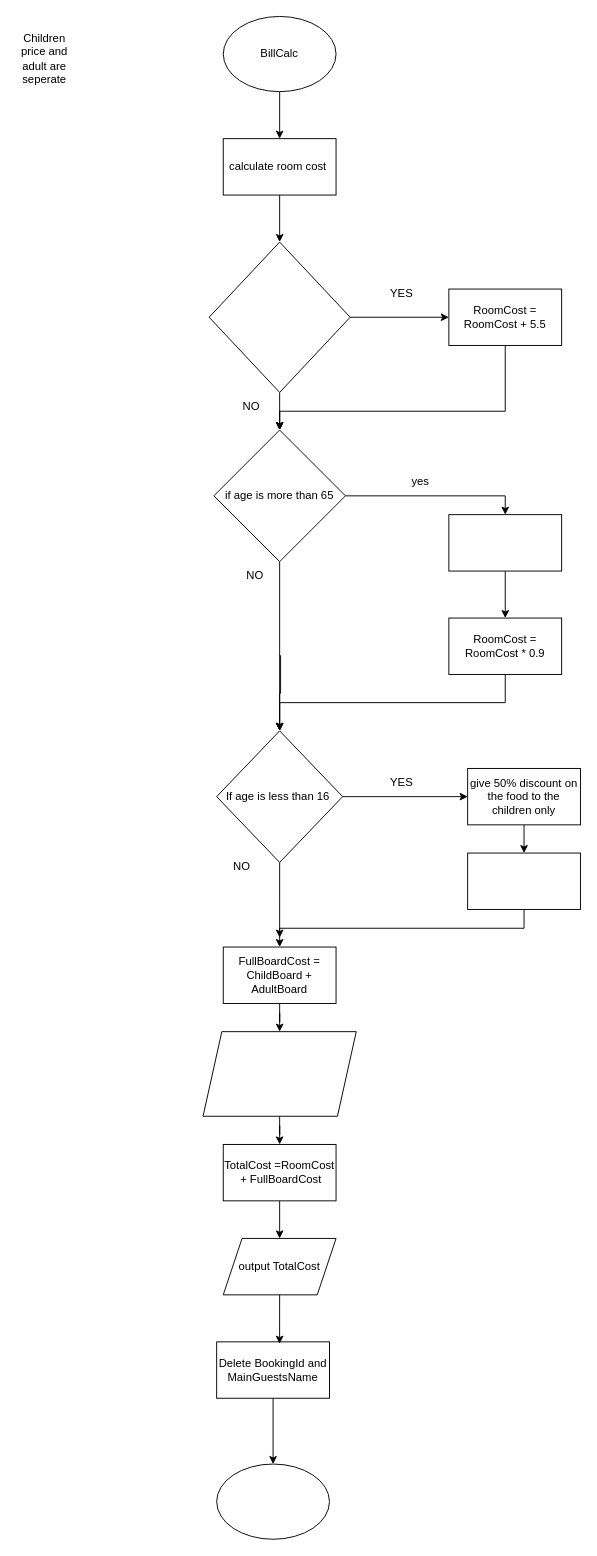
This 597x1556 diagram has some shape labels left out. The centre of each missing label's shape, as x and y in pixels:
ChildBoard = ChildBoard / 2: the point at 523,880
END: the point at 272,1501
give 10% discount on room price: the point at 505,542
if newspaper is true: the point at 279,316
output BookingID MainGuestName RoomCost FullBoardCost: the point at 279,1073
